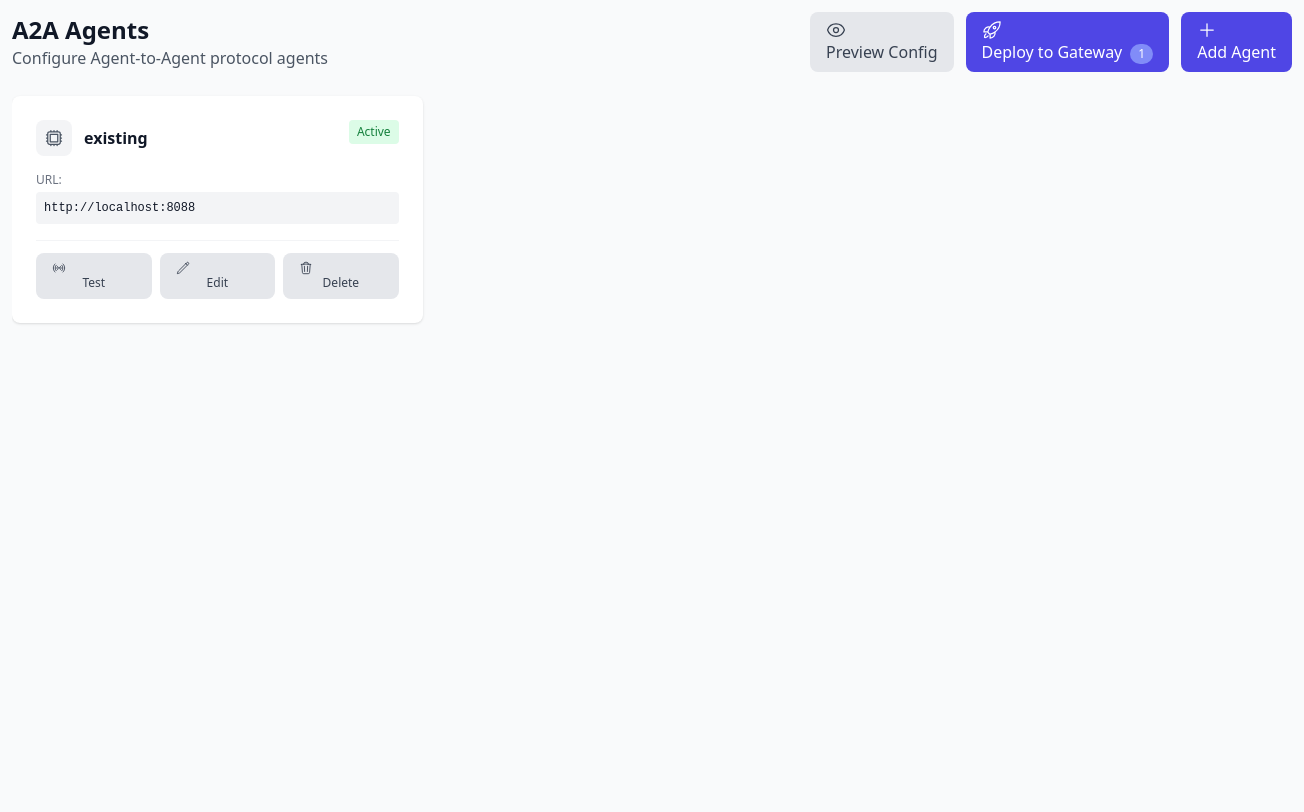
Agents › closes form on cancel
Click the button "Add Agent" at (1237, 42), box [1181,12,1292,72]
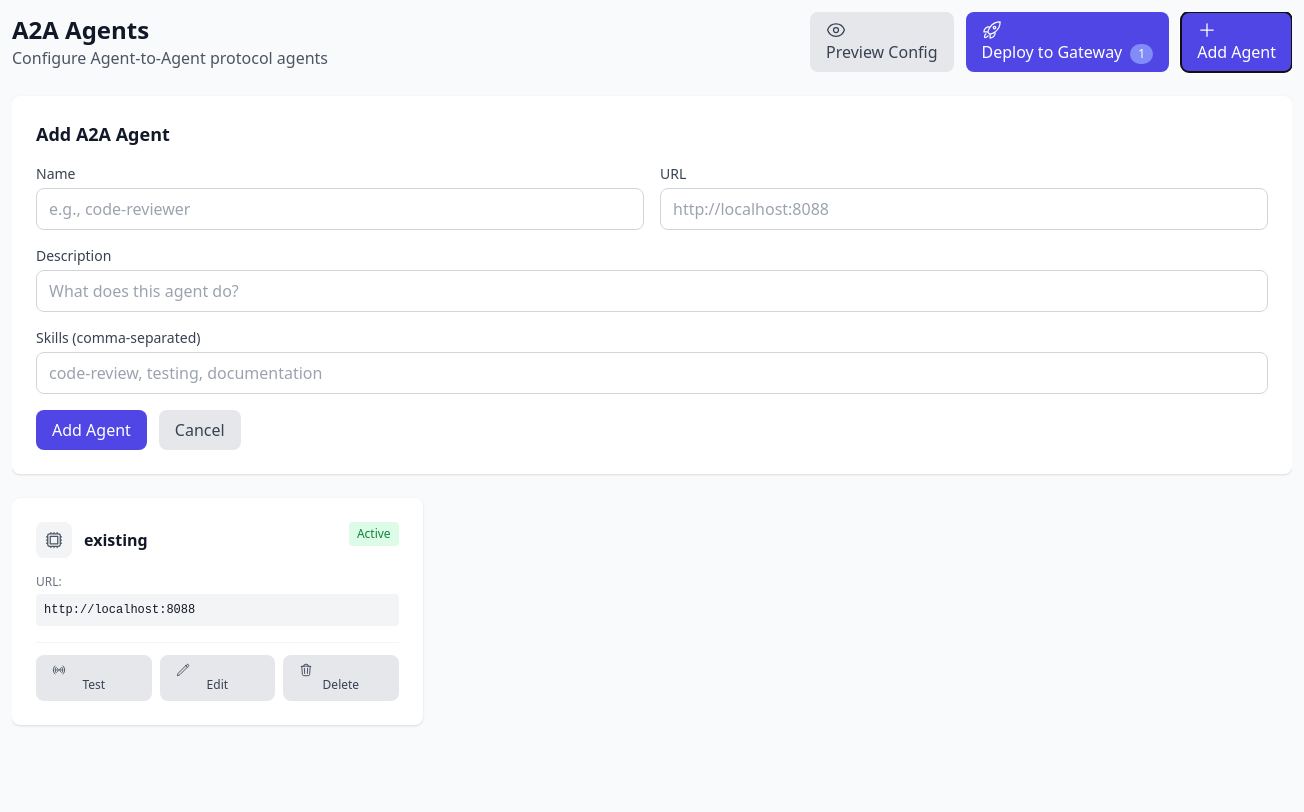
Check: the heading "Add A2A Agent" is shown, box [36,122,170,146]
Click the button "Cancel" at (200, 430), box [159,410,241,450]
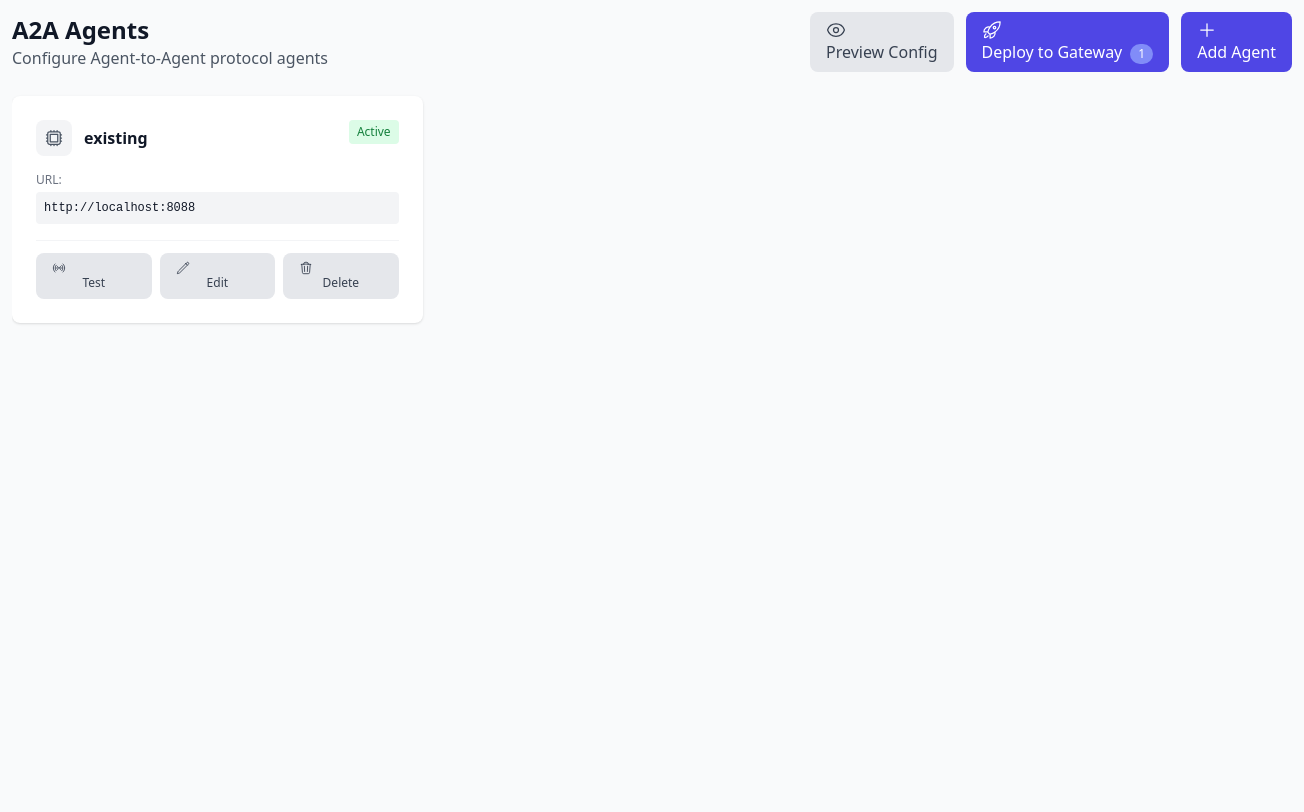
Check: the heading "Add A2A Agent" is gone
